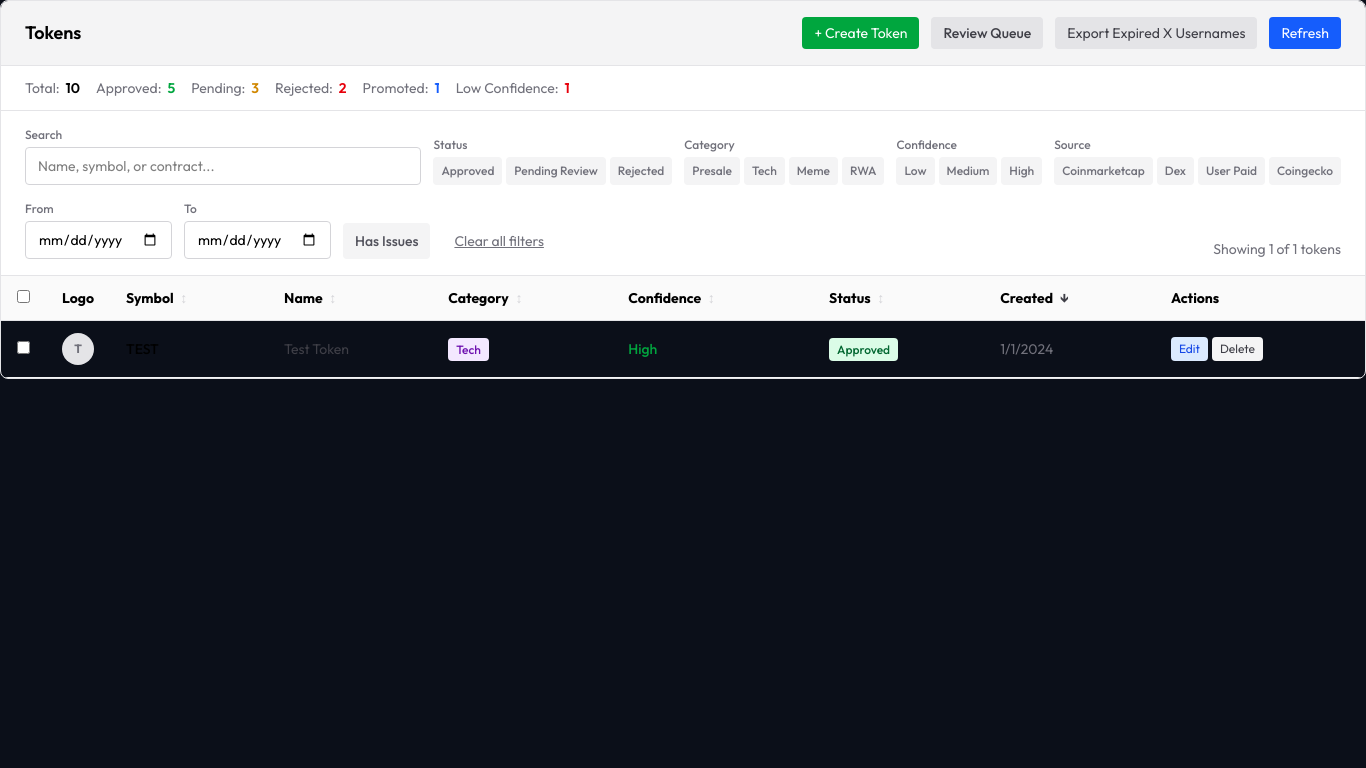
Test: TokensSection › shows error toast when export fetch fails
Check: the text "TEST" is shown, box [110,320,268,378]
Click the button "Export Expired X Usernames". click: [1156, 33]
box: [1055,17,1257,49]
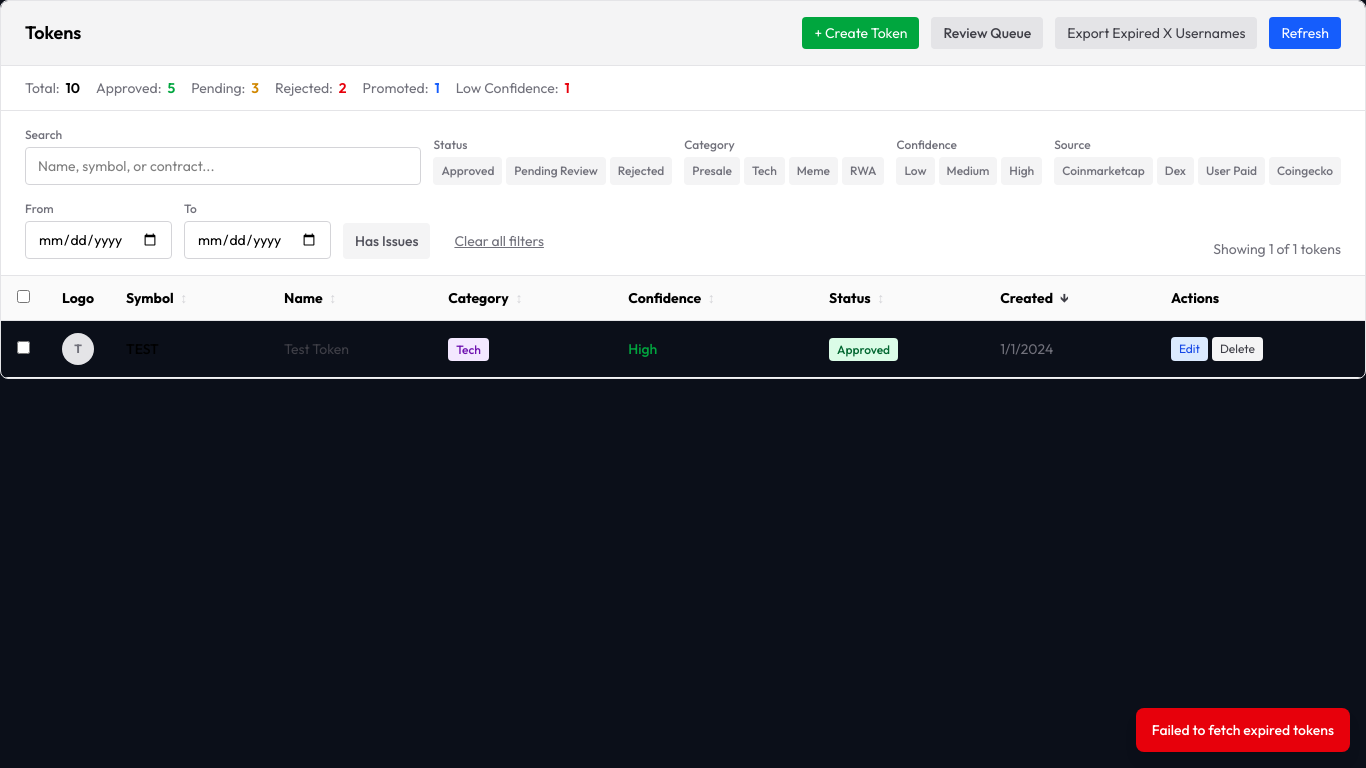
Check: the text "Failed to fetch expired tokens" is shown, box [1136,708,1350,752]
